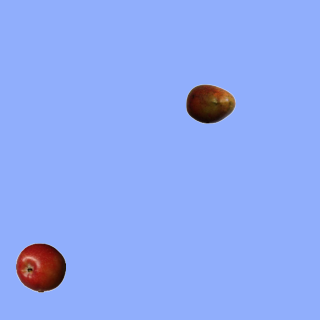Apple Braeburn: (15, 242, 65, 292)
Mango Red: (185, 78, 235, 128)
